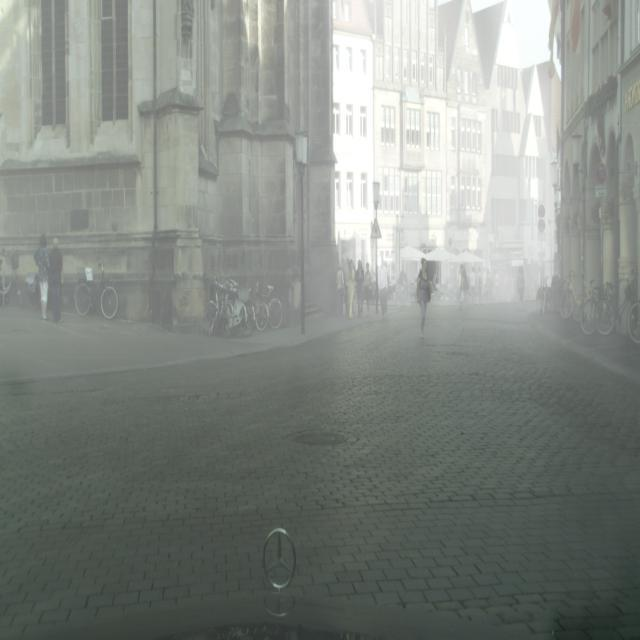car: (596, 268, 638, 338), (75, 257, 118, 318), (208, 277, 251, 338), (254, 282, 282, 331), (559, 270, 581, 320), (628, 300, 640, 344)
person: (33, 232, 51, 322), (416, 258, 433, 338), (49, 236, 63, 324), (377, 259, 389, 316), (345, 260, 355, 319), (363, 262, 373, 318), (355, 260, 364, 318)
